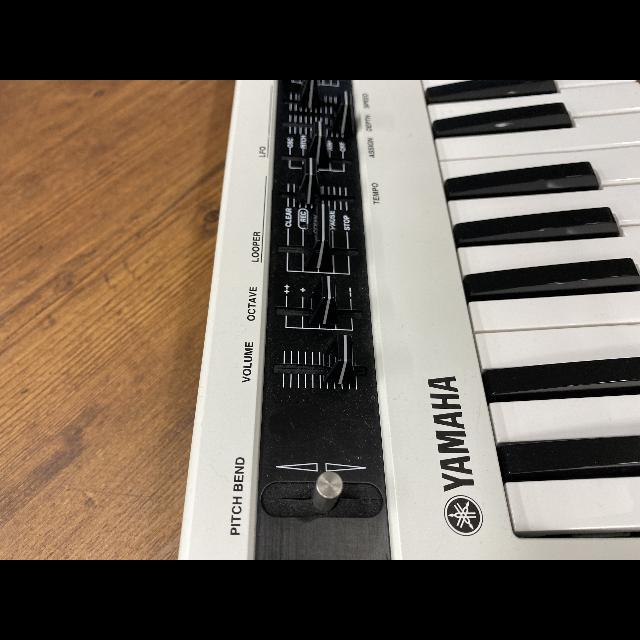Electronic-Keyboard: (176, 80, 640, 560)
